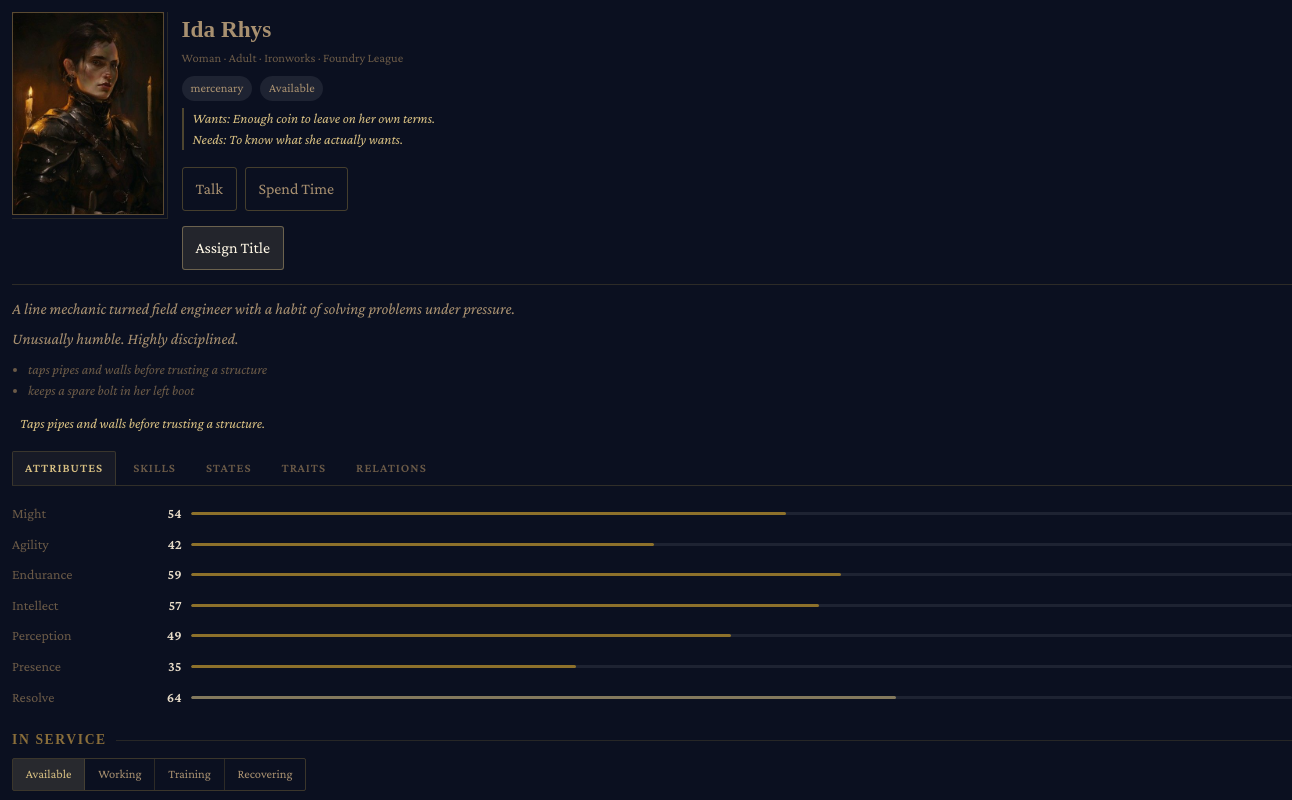
it: NpcDetailPanel — cooldown countdown feedback on Talk Deeply / Court (destiny-twzj) › shows both buttons enabled, with no lock icon, before either action has been used today
The width and height of the screenshot is (1292, 800).
Click the button "Talk": (209, 189) 182,167 -> 237,211
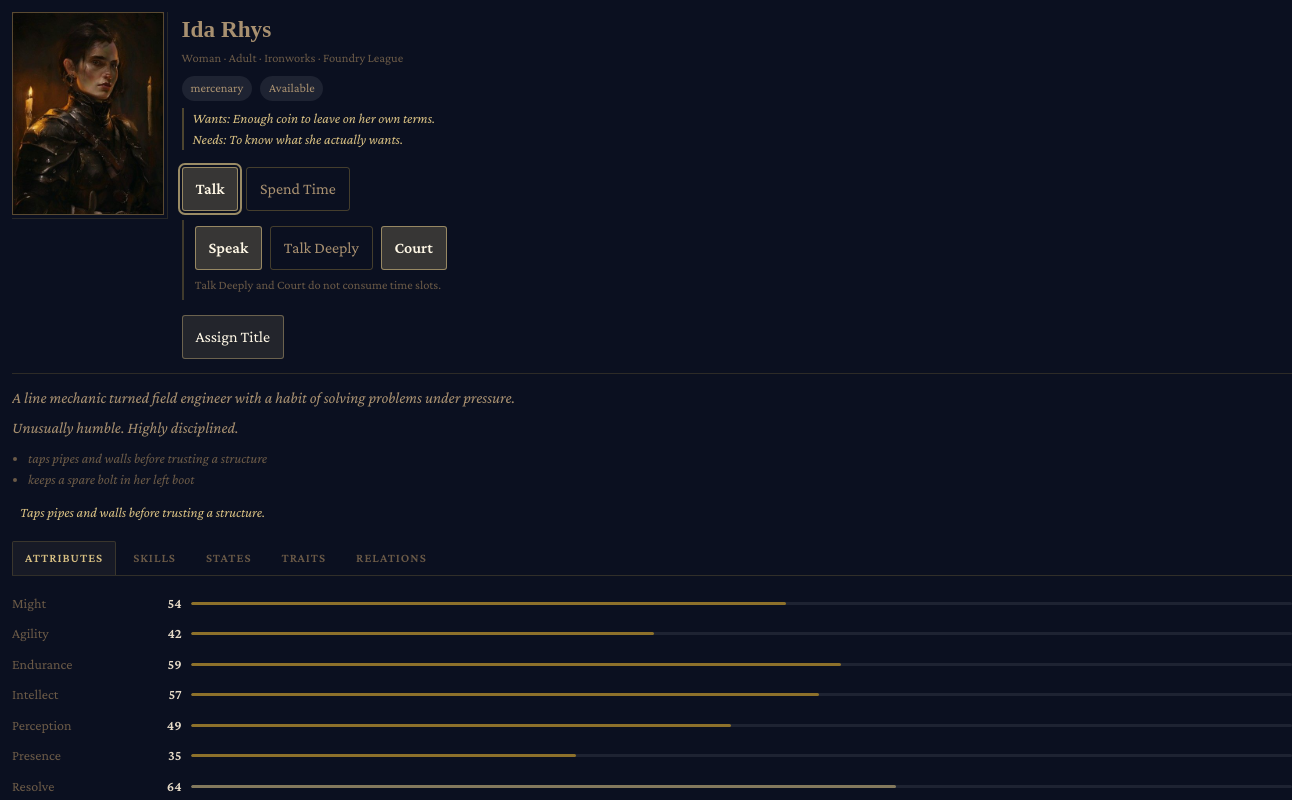
Expected: the button "Talk Deeply" is enabled, 270,226 -> 373,270
Expected: the button "Court" is enabled, 381,226 -> 447,270
